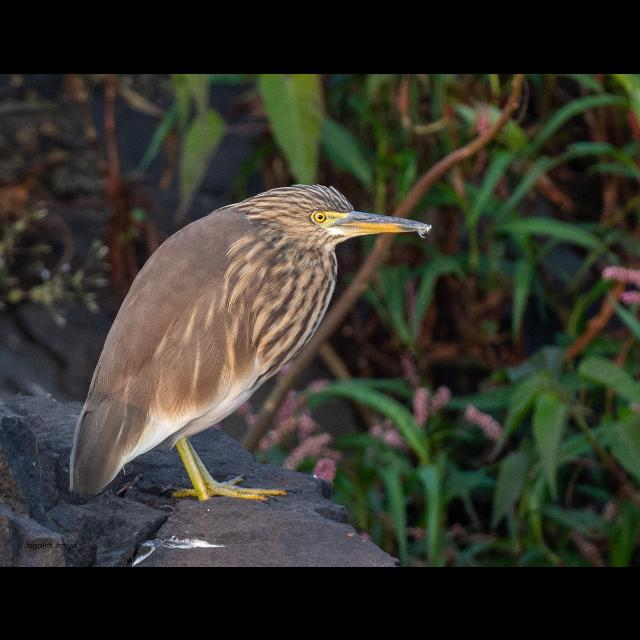heron: (58, 169, 440, 516)
